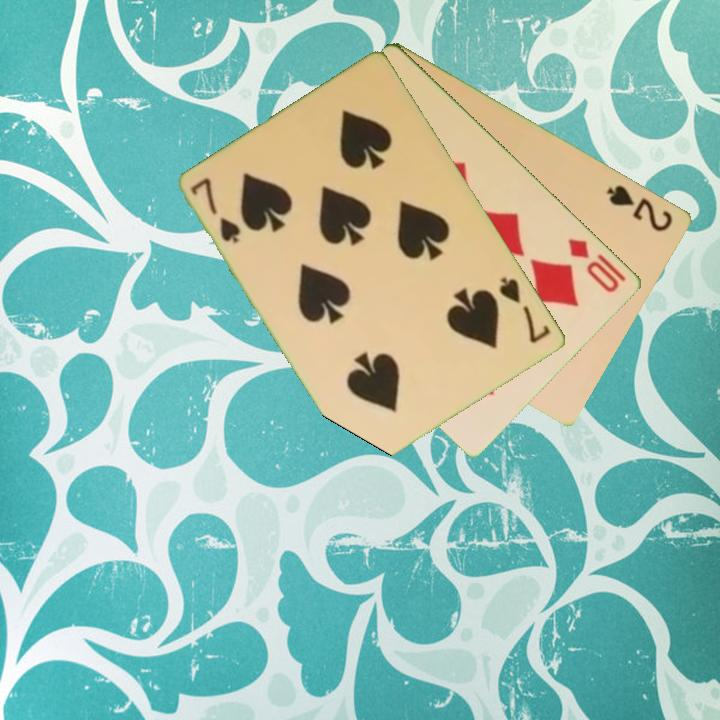10d: (565, 234, 623, 296)
2s: (603, 181, 676, 235)
7s: (496, 274, 554, 346), (187, 174, 244, 246)
